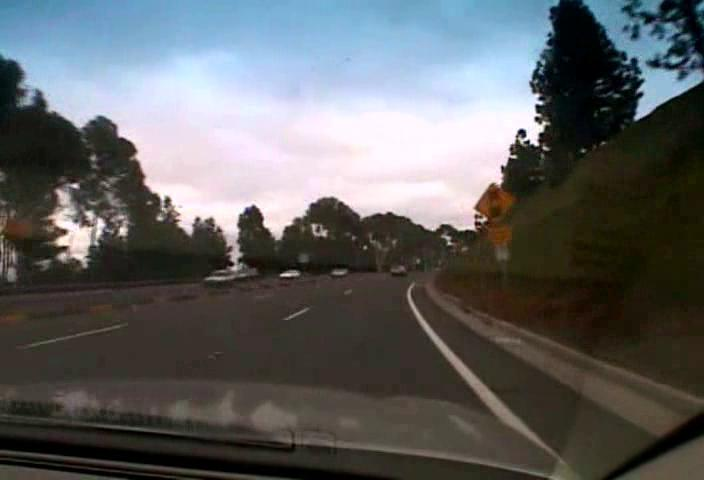signalAhead: (472, 182, 516, 226)
